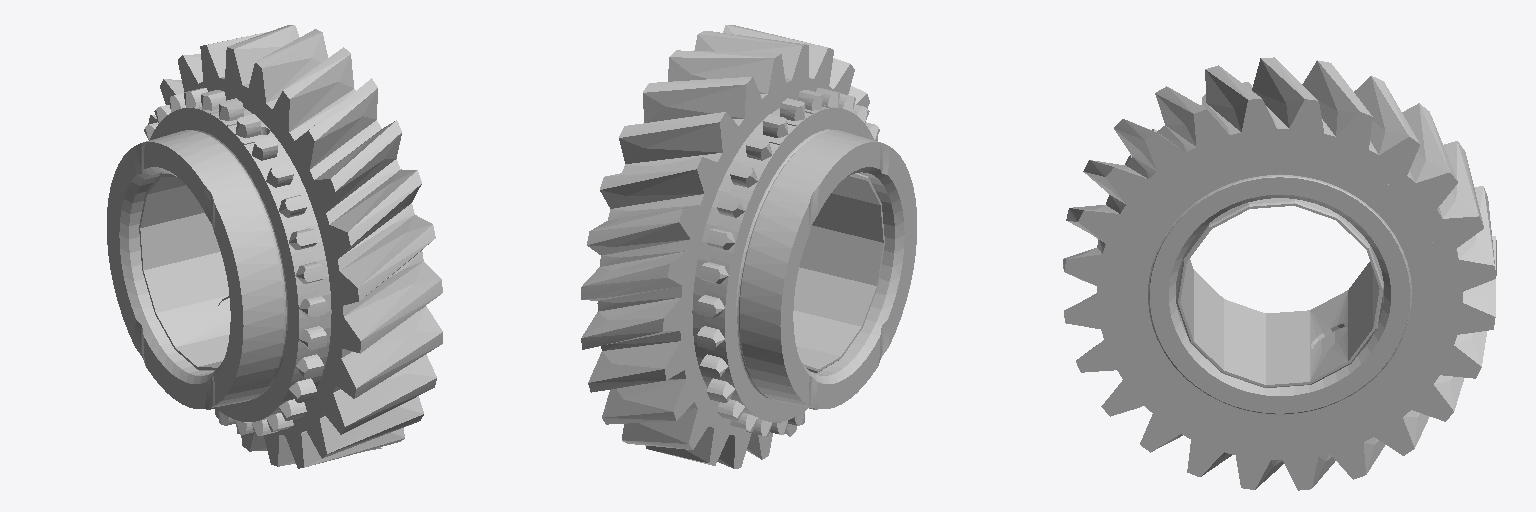
Rendered from 73. Шестерня третьей передачи в сборе.obj.
3 views of the same model, side by side, from view 1: azimuth 30°, elevation 25°; view 2: azimuth 150°, elevation 25°; view 3: azimuth 270°, elevation 25° (orthographic).
Visible parts, largest first — view 1: Solid1, Твердое тело1, Твердое тело1:1; view 2: Solid1, Твердое тело1, Твердое тело1:1; view 3: Solid1, Твердое тело1, Твердое тело1:1.
Part boxes in pixels (x1,y1,x2,y2): Solid1: (148,25,442,468); Твердое тело1: (107,88,333,436); Твердое тело1:1: (139,172,229,370); Solid1: (581,25,877,468); Твердое тело1: (690,88,916,436); Твердое тело1:1: (793,173,884,372); Solid1: (1063,57,1496,490); Твердое тело1: (1117,82,1442,441); Твердое тело1:1: (1176,198,1383,387).
Size of the model in its own units: 43 by 99.84 by 99.84.